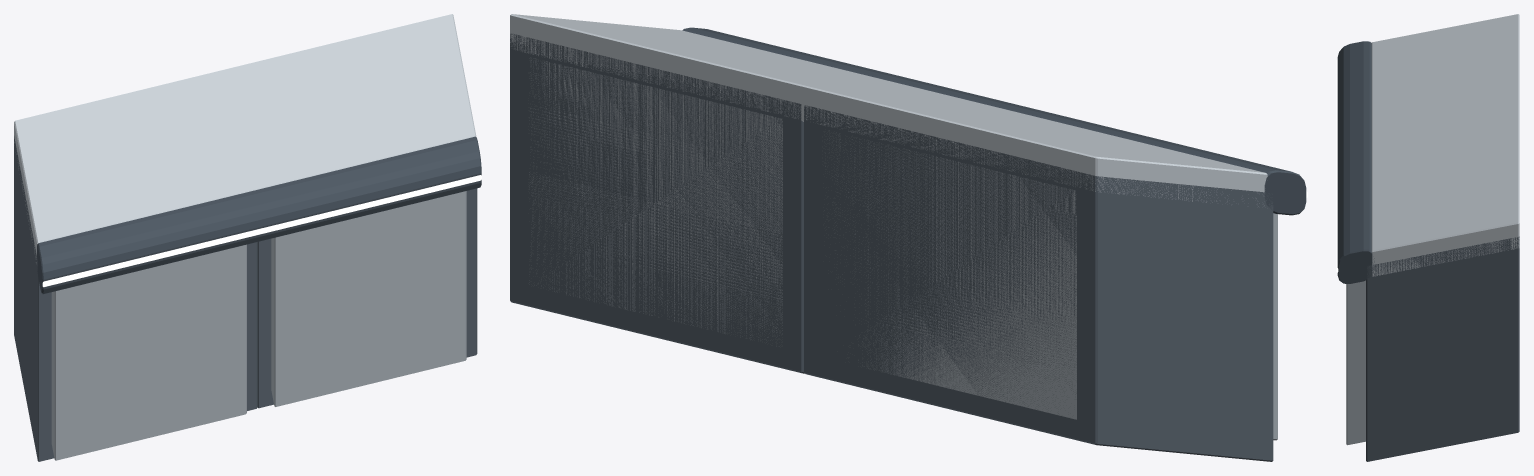
File: Terrain_TopRun2.gltf
The picture shows the model from 3 angles, left to right: view 1: azimuth 30°, elevation 25°; view 2: azimuth 150°, elevation 25°; view 3: azimuth 270°, elevation 25°; orthographic projection. The views are drawn at different scales.
Parts seen in each view (by area): view 1: Terrain_TopRun2_baked; view 2: Terrain_TopRun2_baked; view 3: Terrain_TopRun2_baked.
Boxes of the visible parts, box(x1,y1,x2,y2) form: Terrain_TopRun2_baked: box(14, 14, 481, 461); Terrain_TopRun2_baked: box(510, 14, 1307, 461); Terrain_TopRun2_baked: box(1336, 14, 1519, 461).
Size of the model in its own units: 2.29 by 1.18 by 0.74.
